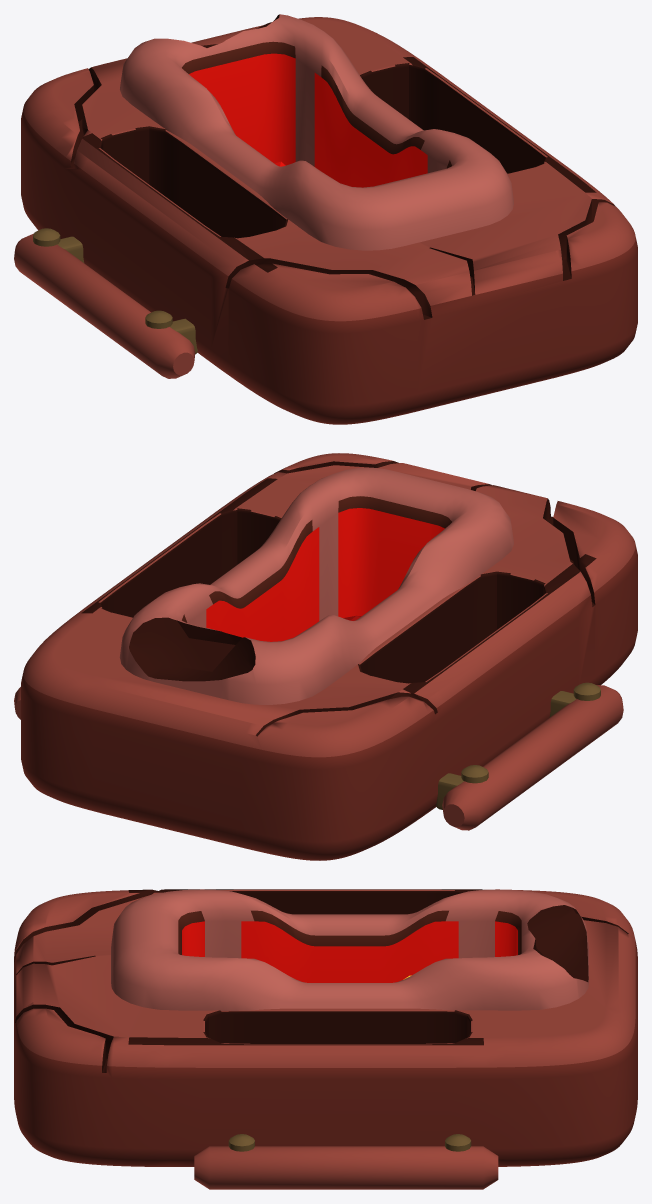
Rendered from red_furnace_wreck.glb.
3 renders of one model, top to bottom at view 1: azimuth 30°, elevation 25°; view 2: azimuth 150°, elevation 25°; view 3: azimuth 270°, elevation 25°, orthographic. The views are drawn at different scales.
Parts seen in each view (by area): view 1: housing, rim, rail1; view 2: housing, rim, rail1; view 3: housing, rim, rail-1.
Boxes of the visible parts, left/top/right/bottom form: housing: left=21, top=17, right=637, bottom=424; rim: left=120, top=14, right=513, bottom=250; rail1: left=14, top=233, right=195, bottom=378; housing: left=21, top=453, right=637, bottom=860; rim: left=119, top=467, right=513, bottom=704; rail1: left=442, top=685, right=623, bottom=830; housing: left=14, top=889, right=637, bottom=1166; rim: left=111, top=889, right=588, bottom=1010; rail-1: left=194, top=1146, right=498, bottom=1189.
Bounding box in the file's own units: 21.6 × 7.6 × 25.98.
